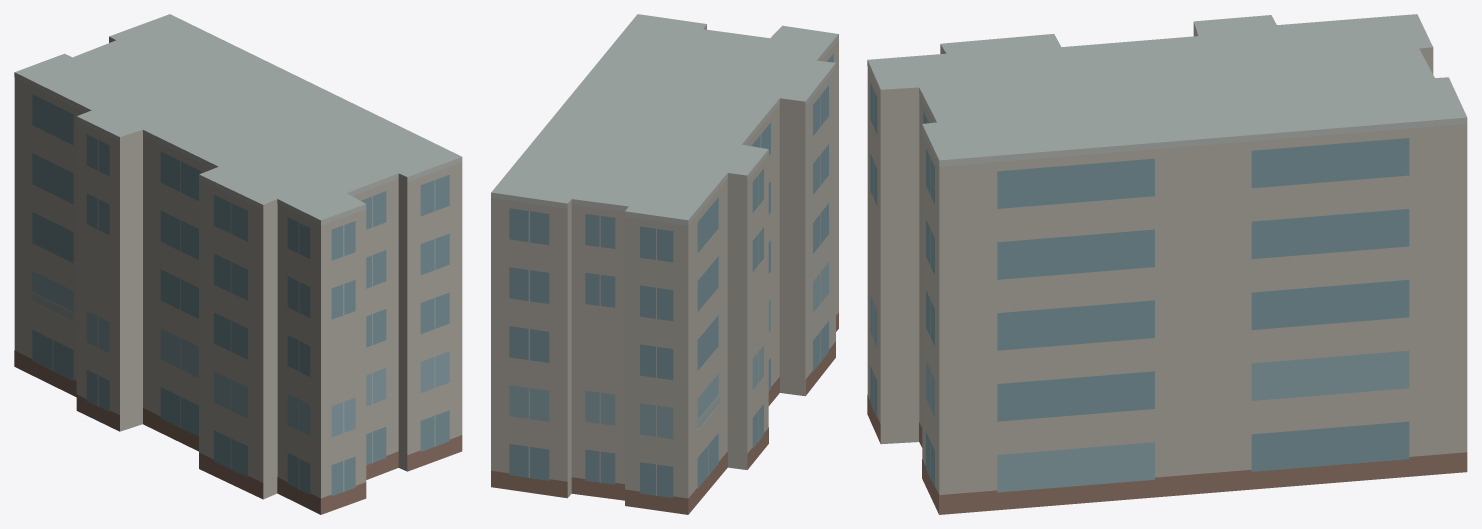
The model's file is survey-upis-32708944.glb.
The picture shows the model from 3 angles, left to right: view 1: azimuth 30°, elevation 25°; view 2: azimuth 150°, elevation 25°; view 3: azimuth 270°, elevation 25°; orthographic projection. The views are drawn at different scales.
Visible parts, largest first — view 1: survey-upis-32708944.tmp; view 2: survey-upis-32708944.tmp; view 3: survey-upis-32708944.tmp.
Boxes of the visible parts, x1,y1,x2,y2 form: survey-upis-32708944.tmp: (14, 14, 462, 514); survey-upis-32708944.tmp: (491, 14, 838, 514); survey-upis-32708944.tmp: (867, 14, 1467, 514).
Size of the model in its own units: 12.23 by 13.8 by 21.18.
